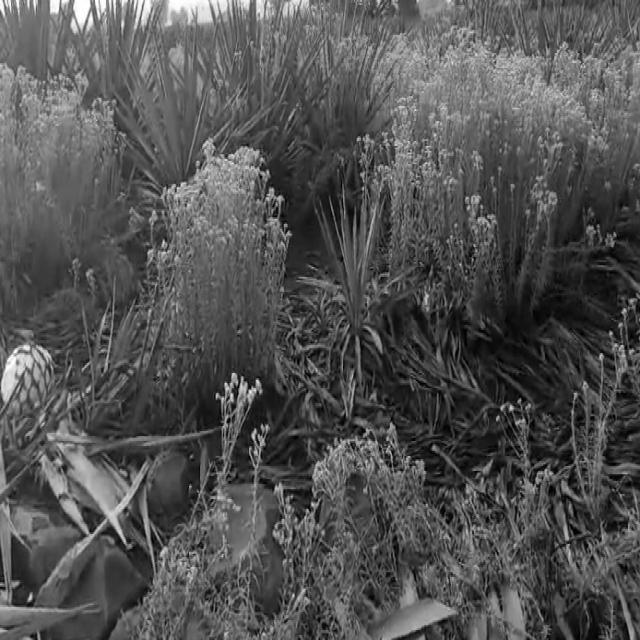agave: (2, 337, 59, 424)
